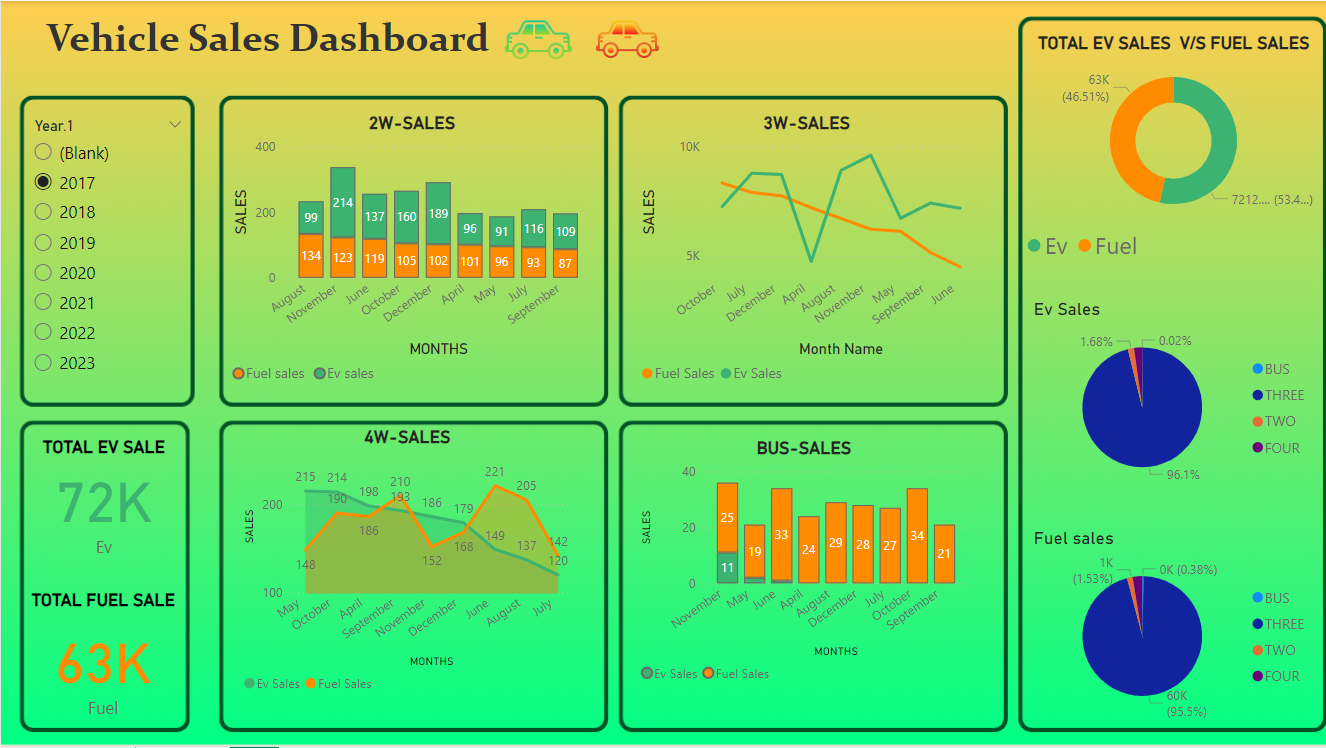

Layout of this report page (visuals, bound fields, positions):
{"tool":"powerbi","page":{"name":"Page 1","canvas":[1280,720],"ordinal":0},"visuals":[{"type":"donutChart","title":"TOTAL EV SALES  V/S FUEL SALES","fields":{"Y":["Sum(Ev sales.TOTAL)","Sum(Ev sales.Fuel sales.TOTAL)"]},"box":[983,29.6,297.2,228.9],"z":0},{"type":"slicer","fields":{"Values":["Ev sales.Year.1"]},"box":[19.8,107.7,167.9,269.3],"z":1000},{"type":"columnChart","title":"2W-SALES ","fields":{"Y":["Sum(Ev sales.Fuel sales.TWO)","Sum(Ev sales.TWO )"],"Category":["Ev sales.Month Name"]},"box":[218.6,107.7,356.4,271.1],"z":2000},{"type":"lineChart","title":"3W-SALES","fields":{"Category":["Ev sales.Month Name"],"Y":["Sum(Ev sales.Fuel sales.THREE)","Sum(Ev sales.THREE)"]},"box":[612.3,107.7,329.5,271.1],"z":3000},{"type":"columnChart","title":"BUS-SALES ","fields":{"Category":["Ev sales.Month Name"],"Y":["Sum(Ev sales.BUS)","Sum(Ev sales.Fuel sales.BUS)"]},"box":[612.3,421,324.1,246],"z":4000},{"type":"areaChart","title":"4W-SALES ","fields":{"Category":["Ev sales.Month Name"],"Y":["Sum(Ev sales.FOUR)","Sum(Ev sales.Fuel sales.FOUR)"]},"box":[229.8,410.3,325.9,266.6],"z":5000},{"type":"card","title":"TOTAL EV SALE","fields":{"Values":["Sum(Ev sales.TOTAL)"]},"box":[25.1,420.1,148.1,117.6],"z":6000},{"type":"card","title":"TOTAL FUEL SALE","fields":{"Values":["Sum(Ev sales.Fuel sales.TOTAL)"]},"box":[19.8,568.3,158.9,131.1],"z":7000},{"type":"textbox","box":[38.6,9,446.2,63.7],"z":8000},{"type":"pieChart","title":"Ev Sales","fields":{"Y":["Sum(Ev sales.BUS)","Sum(Ev sales.THREE)","Sum(Ev sales.TWO )","Sum(Ev sales.FOUR)"]},"box":[991.1,287.7,281,191.2],"z":9000},{"type":"pieChart","title":"Fuel sales","fields":{"Y":["Sum(Ev sales.Fuel sales.BUS)","Sum(Ev sales.Fuel sales.THREE)","Sum(Ev sales.Fuel sales.TWO)","Sum(Ev sales.Fuel sales.FOUR)"]},"box":[991.1,508.1,281,191.2],"z":10000},{"type":"image","box":[481.2,0,74.5,72.7],"z":11000},{"type":"image","box":[569.2,0,70.9,72.7],"z":12000}]}

Visuals, with their boxes in screenshot pixels (x1, y1, x2, y2), scaled from the page's 1280x720 canvas onto the 1326x748 screenshot:
"TOTAL EV SALES  V/S FUEL SALES" donutChart: {"left": 1018, "top": 31, "right": 1325, "bottom": 269}
slicer - Ev sales.Year.1: {"left": 21, "top": 112, "right": 194, "bottom": 392}
"2W-SALES " columnChart: {"left": 226, "top": 112, "right": 596, "bottom": 394}
"3W-SALES" lineChart: {"left": 634, "top": 112, "right": 976, "bottom": 394}
"BUS-SALES " columnChart: {"left": 634, "top": 437, "right": 970, "bottom": 693}
"4W-SALES " areaChart: {"left": 238, "top": 426, "right": 576, "bottom": 703}
"TOTAL EV SALE" card: {"left": 26, "top": 436, "right": 179, "bottom": 559}
"TOTAL FUEL SALE" card: {"left": 21, "top": 590, "right": 185, "bottom": 727}
textbox: {"left": 40, "top": 9, "right": 502, "bottom": 76}
"Ev Sales" pieChart: {"left": 1027, "top": 299, "right": 1318, "bottom": 498}
"Fuel sales" pieChart: {"left": 1027, "top": 528, "right": 1318, "bottom": 726}
image: {"left": 498, "top": 0, "right": 576, "bottom": 76}
image: {"left": 590, "top": 0, "right": 663, "bottom": 76}
